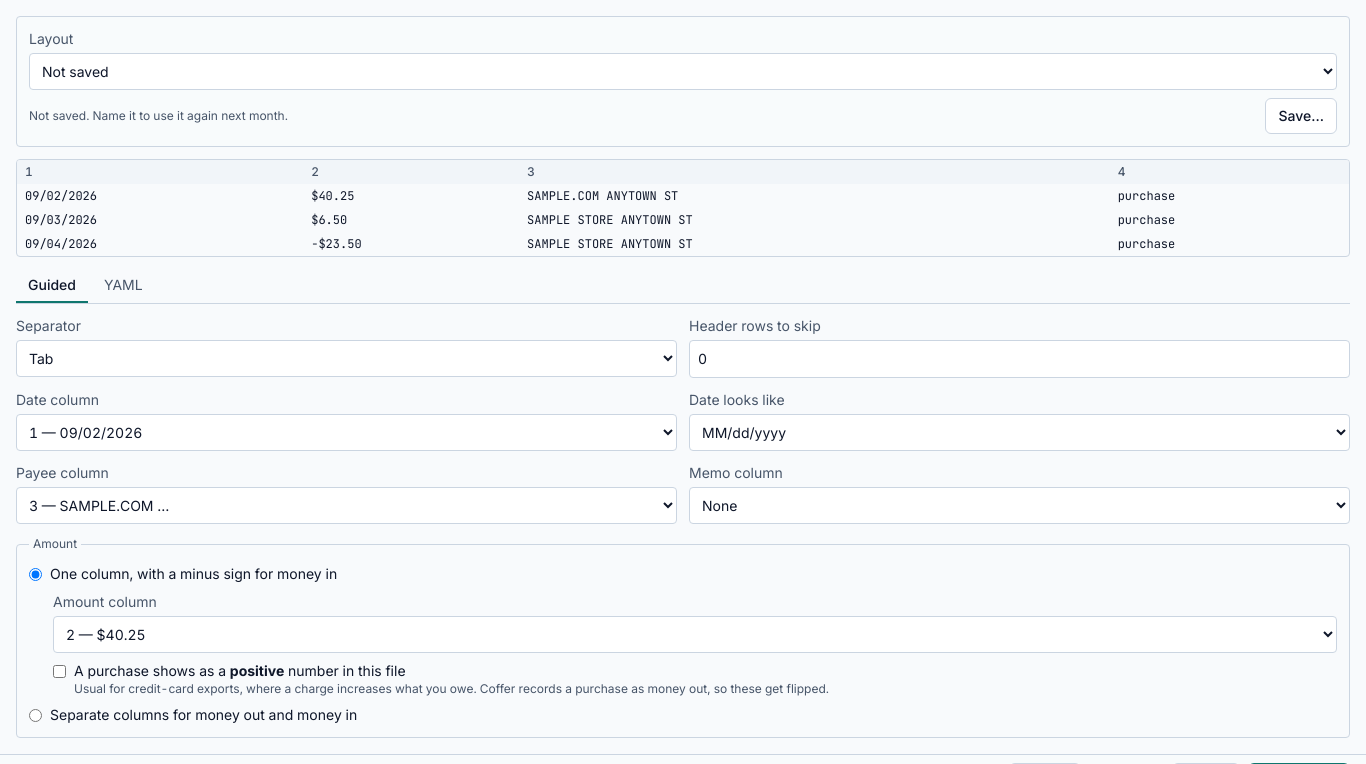
Test: CsvMappingStep › re-reads a hand edit so the controls really do show the document
Check: the dropdown labelled "Payee column" shows "3 — SAMPLE.COM …", box [16, 487, 677, 524]
Step 1. Click the tab "YAML" → [123, 286], box [92, 269, 155, 303]
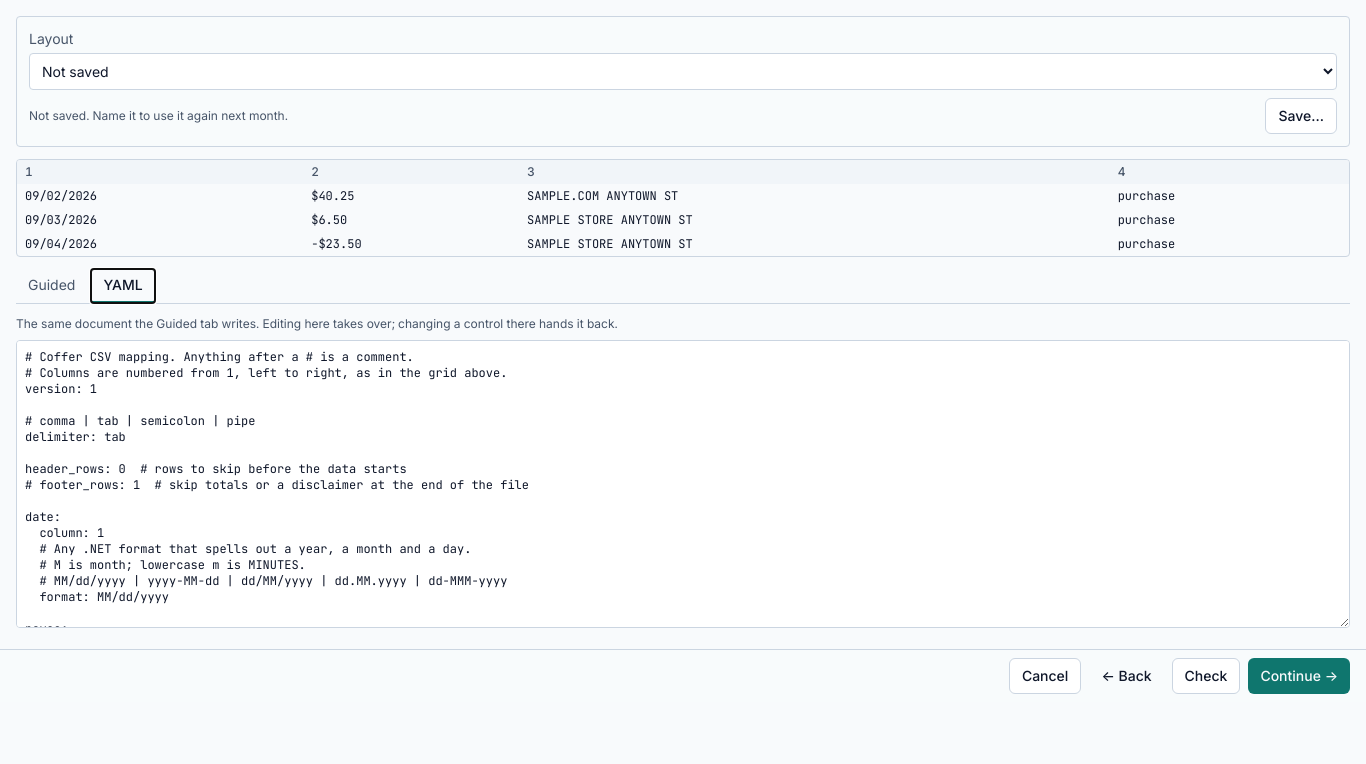
Step 2. Replace the text in the text box named "mapping yaml" with "version: 1" → [683, 484], box [16, 340, 1350, 628]
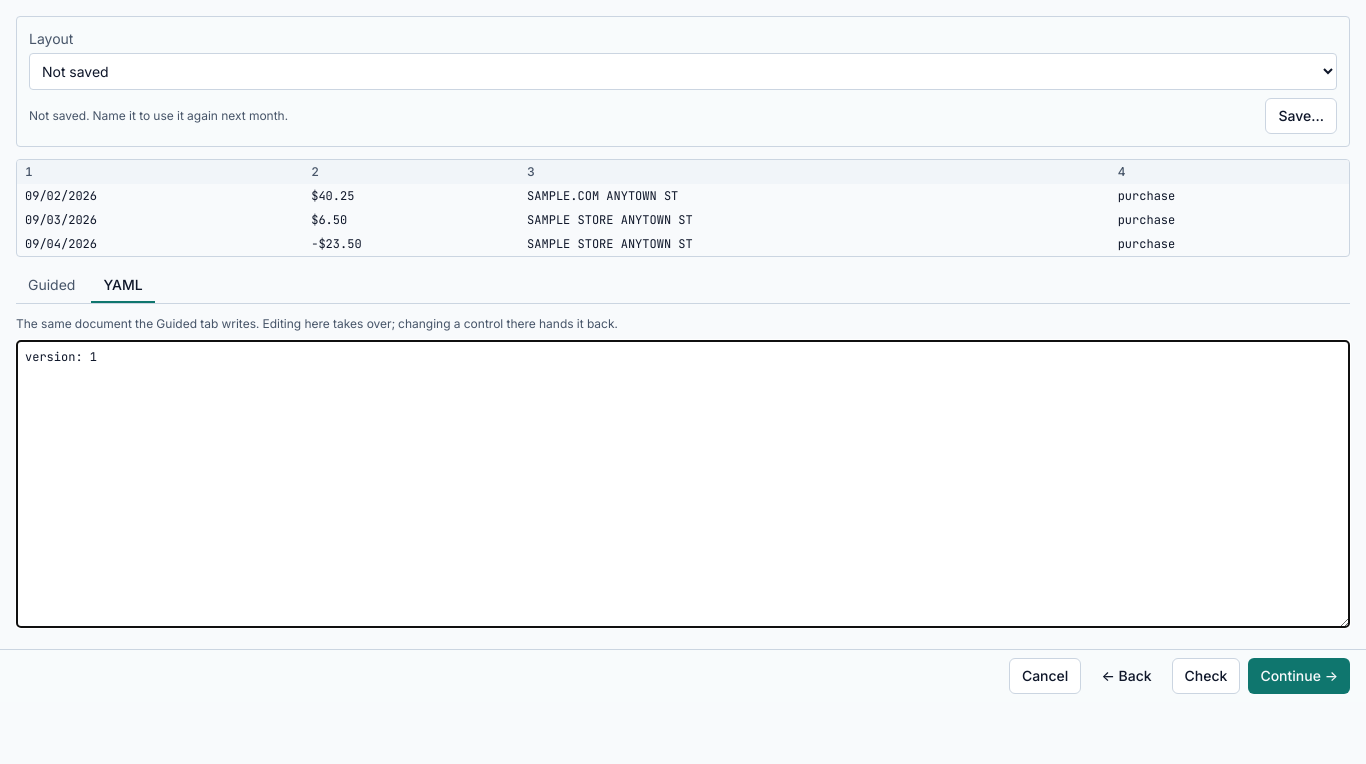
Step 3. Click the tab "Guided" → [52, 286], box [16, 269, 87, 303]
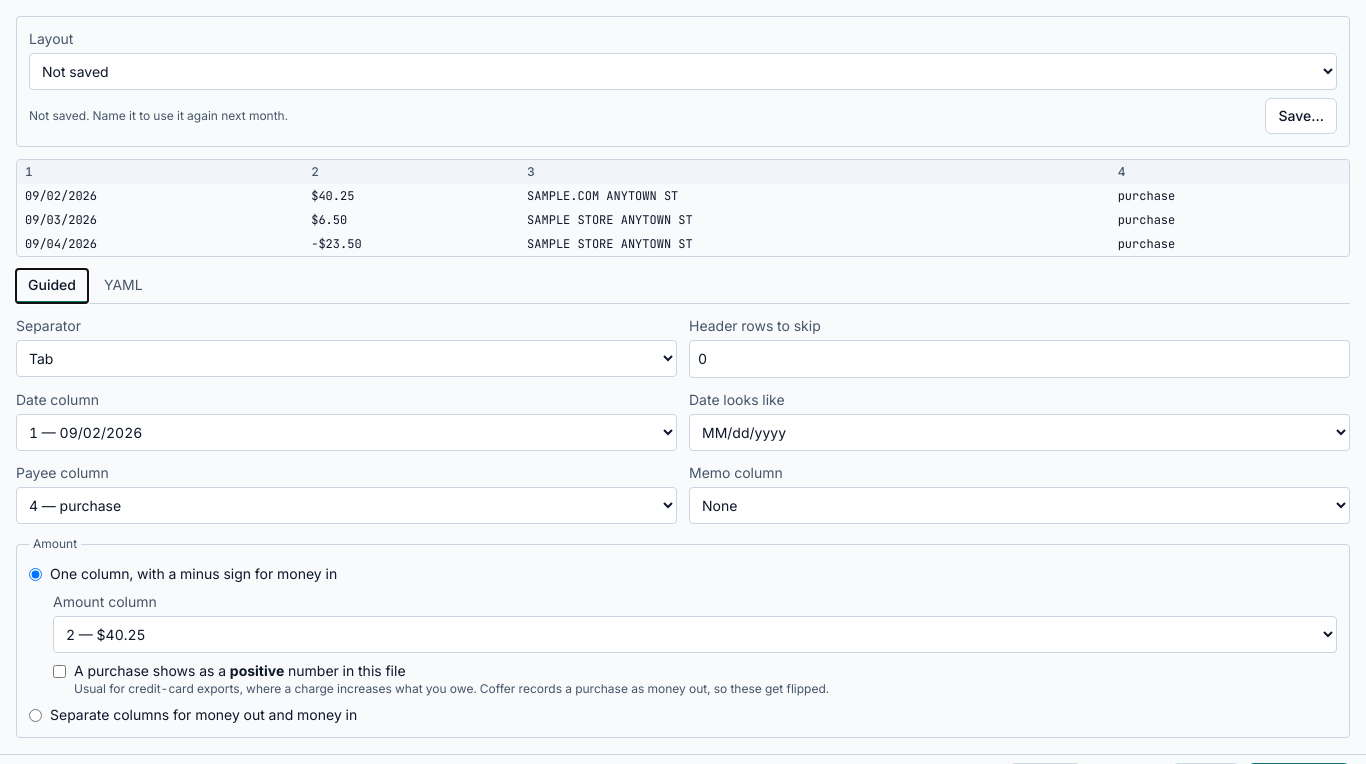
Check: the dropdown labelled "Payee column" shows "4 — purchase", box [16, 487, 677, 524]
Step 4. Click the tab "YAML" → [123, 286], box [92, 269, 155, 303]
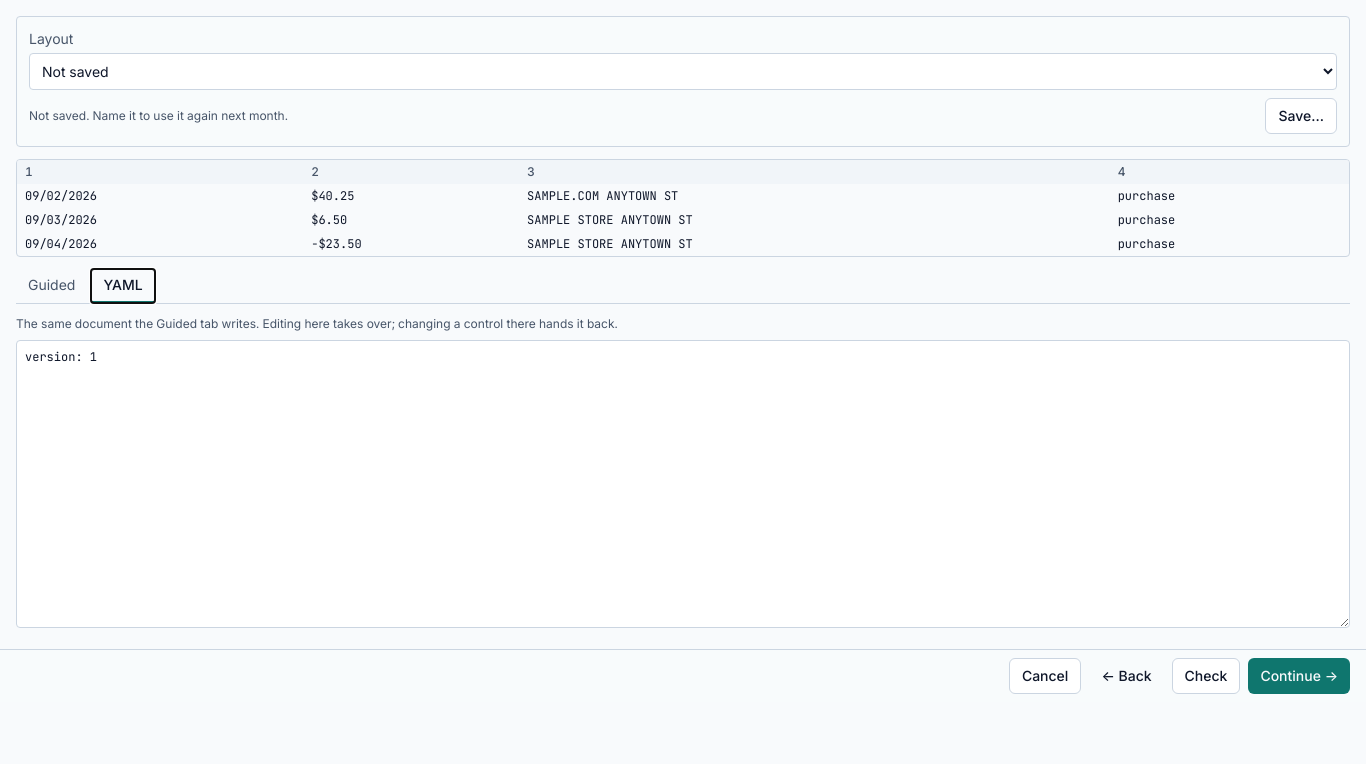
Check: the text box named "mapping yaml" is shown, box [16, 340, 1350, 628]
Step 5. Click the tab "Guided" → [52, 286], box [16, 269, 87, 303]
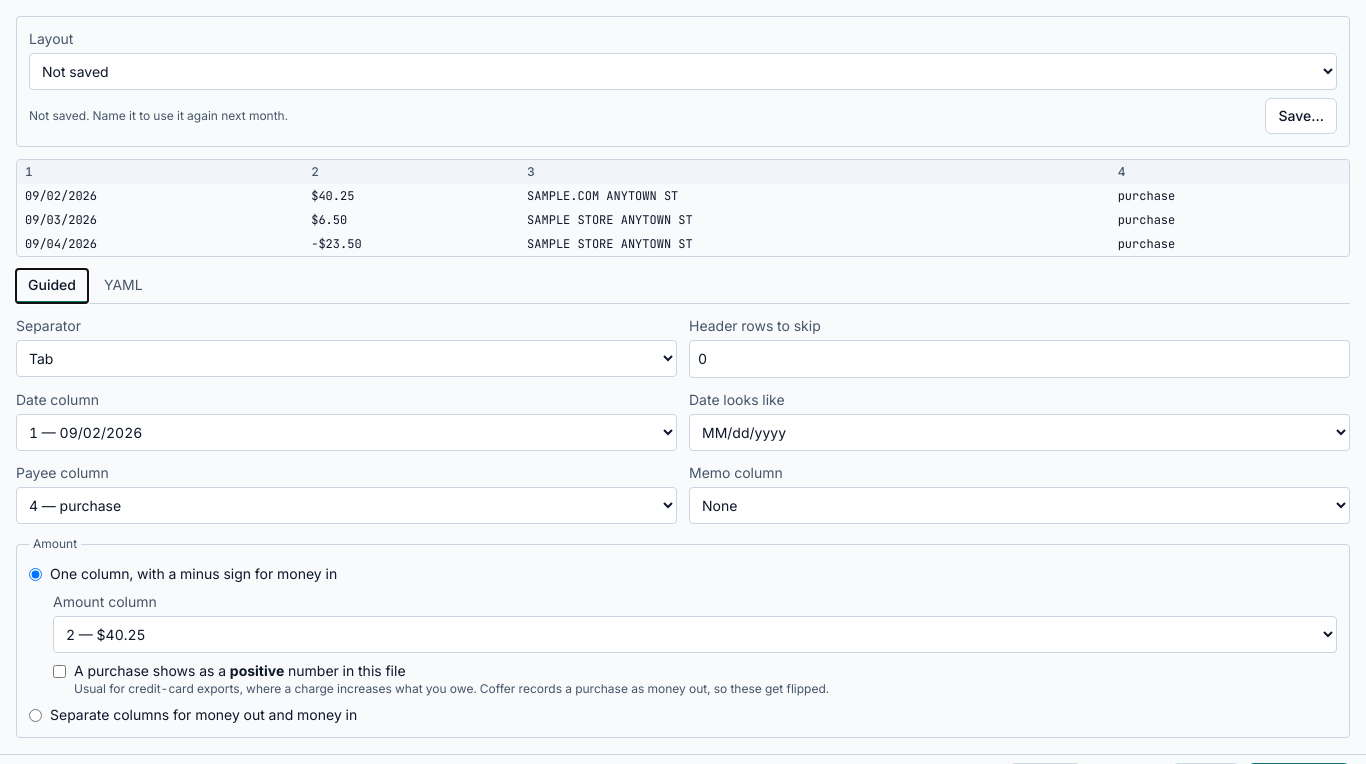
Check: the dropdown labelled "Payee column" is shown, box [16, 487, 677, 524]
